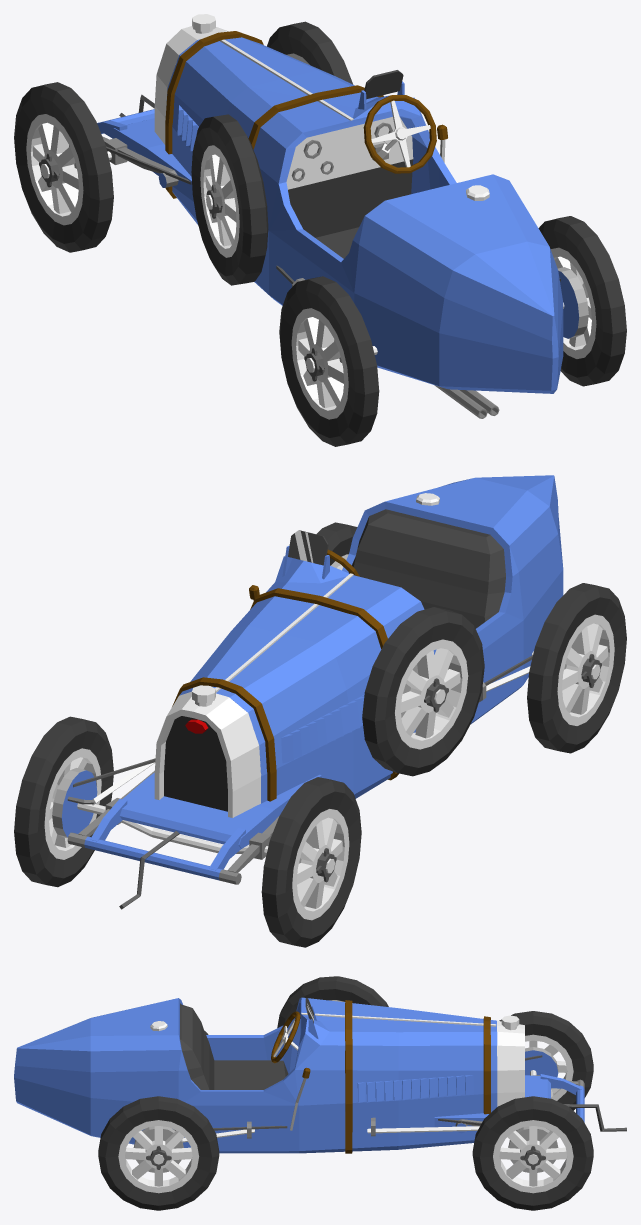
The model's file is bugatti_type_35.glb.
The picture shows the model from 3 angles, top to bottom: view 1: azimuth 30°, elevation 25°; view 2: azimuth 150°, elevation 25°; view 3: azimuth 270°, elevation 25°; orthographic projection. The views are drawn at different scales.
Parts seen in each view (by area): view 1: polySurface420, polySurface282, polySurface195, polySurface85; view 2: polySurface420, polySurface195, polySurface282; view 3: polySurface420, polySurface195, polySurface282, polySurface85.
Boxes of the visible parts, box(x1,y1,x2,y2) form: polySurface420: box(97, 14, 564, 418); polySurface282: box(279, 216, 626, 446); polySurface195: box(14, 21, 353, 252); polySurface85: box(363, 95, 436, 173); polySurface420: box(67, 475, 563, 909); polySurface195: box(14, 716, 361, 947); polySurface282: box(316, 522, 626, 753); polySurface420: box(14, 976, 626, 1153); polySurface195: box(472, 1011, 593, 1210); polySurface282: box(98, 1031, 219, 1210); polySurface85: box(271, 1011, 300, 1063).
Bounding box in the file's own units: 10.37 × 8.65 × 27.19.
